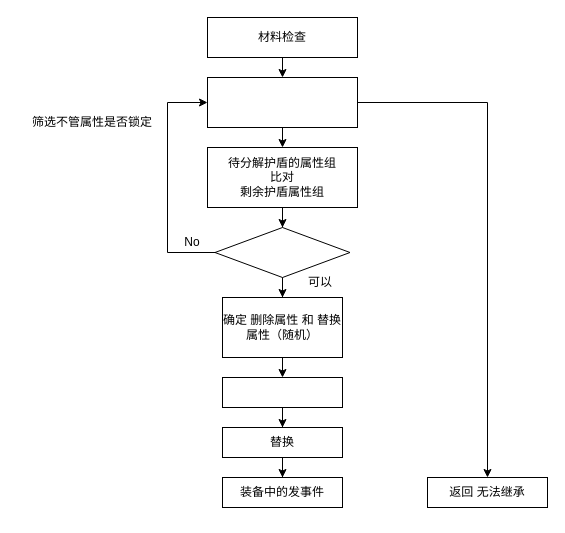
Some shapes in this 565 by 533 pixel diagram are drawn without their labels. Each missing label, with the centre of its shape:
扣除材料: point 282,392
目标护盾按照品质排序，选出最低品质护盾集合: point 282,102
能筛选出 不同组的属性: point 282,252
